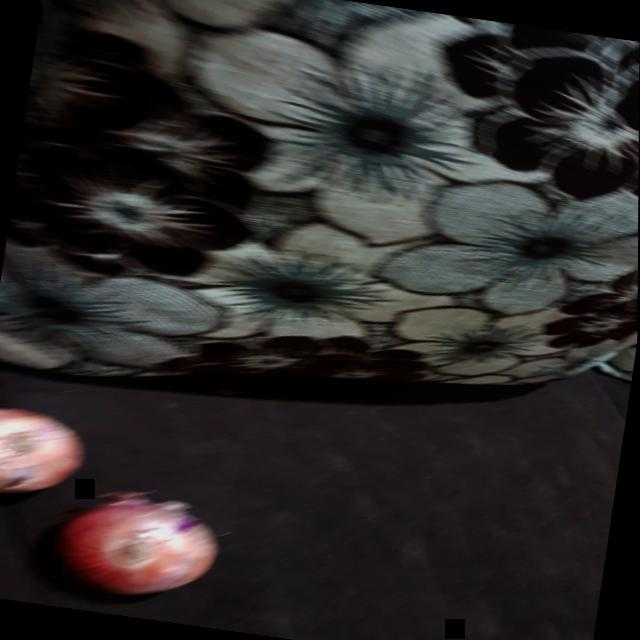onion: (45, 475, 242, 613)
